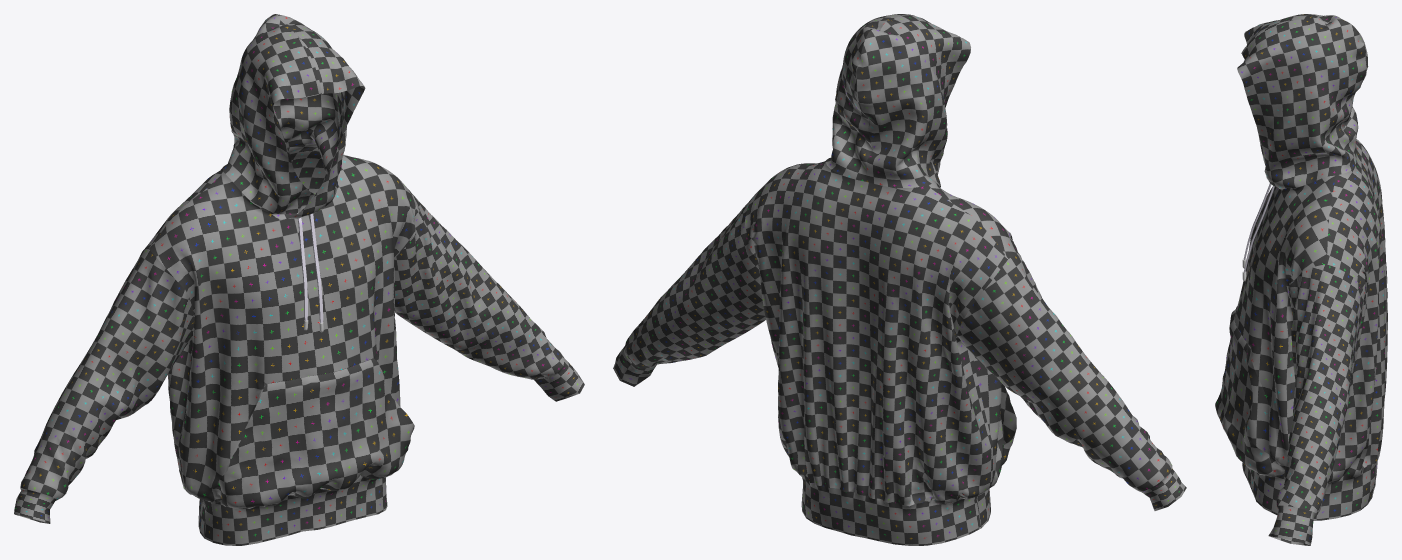
The model's file is premium-eco-hoodie.glb.
3 renders of one model, left to right at view 1: azimuth 30°, elevation 25°; view 2: azimuth 150°, elevation 25°; view 3: azimuth 270°, elevation 25°, orthographic. The views are drawn at different scales.
Visible parts, largest first — view 1: Pattern_135774, Pattern_135776, Pattern_138622, Pattern_138621, Pattern_139970, Pattern_141959, Pattern_135624, Pattern_137163, Pattern_135725, Pattern_135726, STRIKI; view 2: Pattern_137163, Pattern_138622, Pattern_139970, Pattern_138621, Pattern_135676, Pattern_141959, Pattern_135774, Pattern_135726, Pattern_135776, Pattern_135725; view 3: Pattern_141959, Pattern_135774, Pattern_138621, Pattern_137163, Pattern_135776, Pattern_135676, Pattern_135725, Pattern_135624, Pattern_139970, STRIKI.
Part boxes in pixels (x1,y1,x2,y2): Pattern_135774: (149,155,416,502); Pattern_135776: (218,358,414,508); Pattern_138622: (20,249,194,499); Pattern_138621: (394,194,564,379); Pattern_139970: (222,14,321,214); Pattern_141959: (272,14,365,219); Pattern_135624: (203,476,387,545); Pattern_137163: (143,144,363,492); Pattern_135725: (534,358,584,401); Pattern_135726: (14,488,56,523); STRIKI: (298,213,323,322); Pattern_137163: (745,160,1008,506); Pattern_138622: (957,255,1172,491); Pattern_139970: (856,14,970,187); Pattern_138621: (624,197,765,367); Pattern_135676: (799,474,981,545); Pattern_141959: (826,14,908,181); Pattern_135774: (769,161,1020,488); Pattern_135726: (1141,468,1186,510); Pattern_135776: (1000,383,1016,465); Pattern_135725: (613,343,656,386); Pattern_141959: (1237,17,1368,189); Pattern_135774: (1234,175,1335,475); Pattern_138621: (1276,264,1365,514); Pattern_137163: (1326,139,1387,482); Pattern_135776: (1215,306,1274,476); Pattern_135676: (1313,460,1377,520); Pattern_135725: (1268,505,1316,545); Pattern_135624: (1242,463,1284,515); Pattern_139970: (1244,14,1365,152); STRIKI: (1243,183,1274,272).
Bounding box in the file's own units: 1.18 × 0.98 × 0.3286.
Materials: 4 (1 with a texture image).
